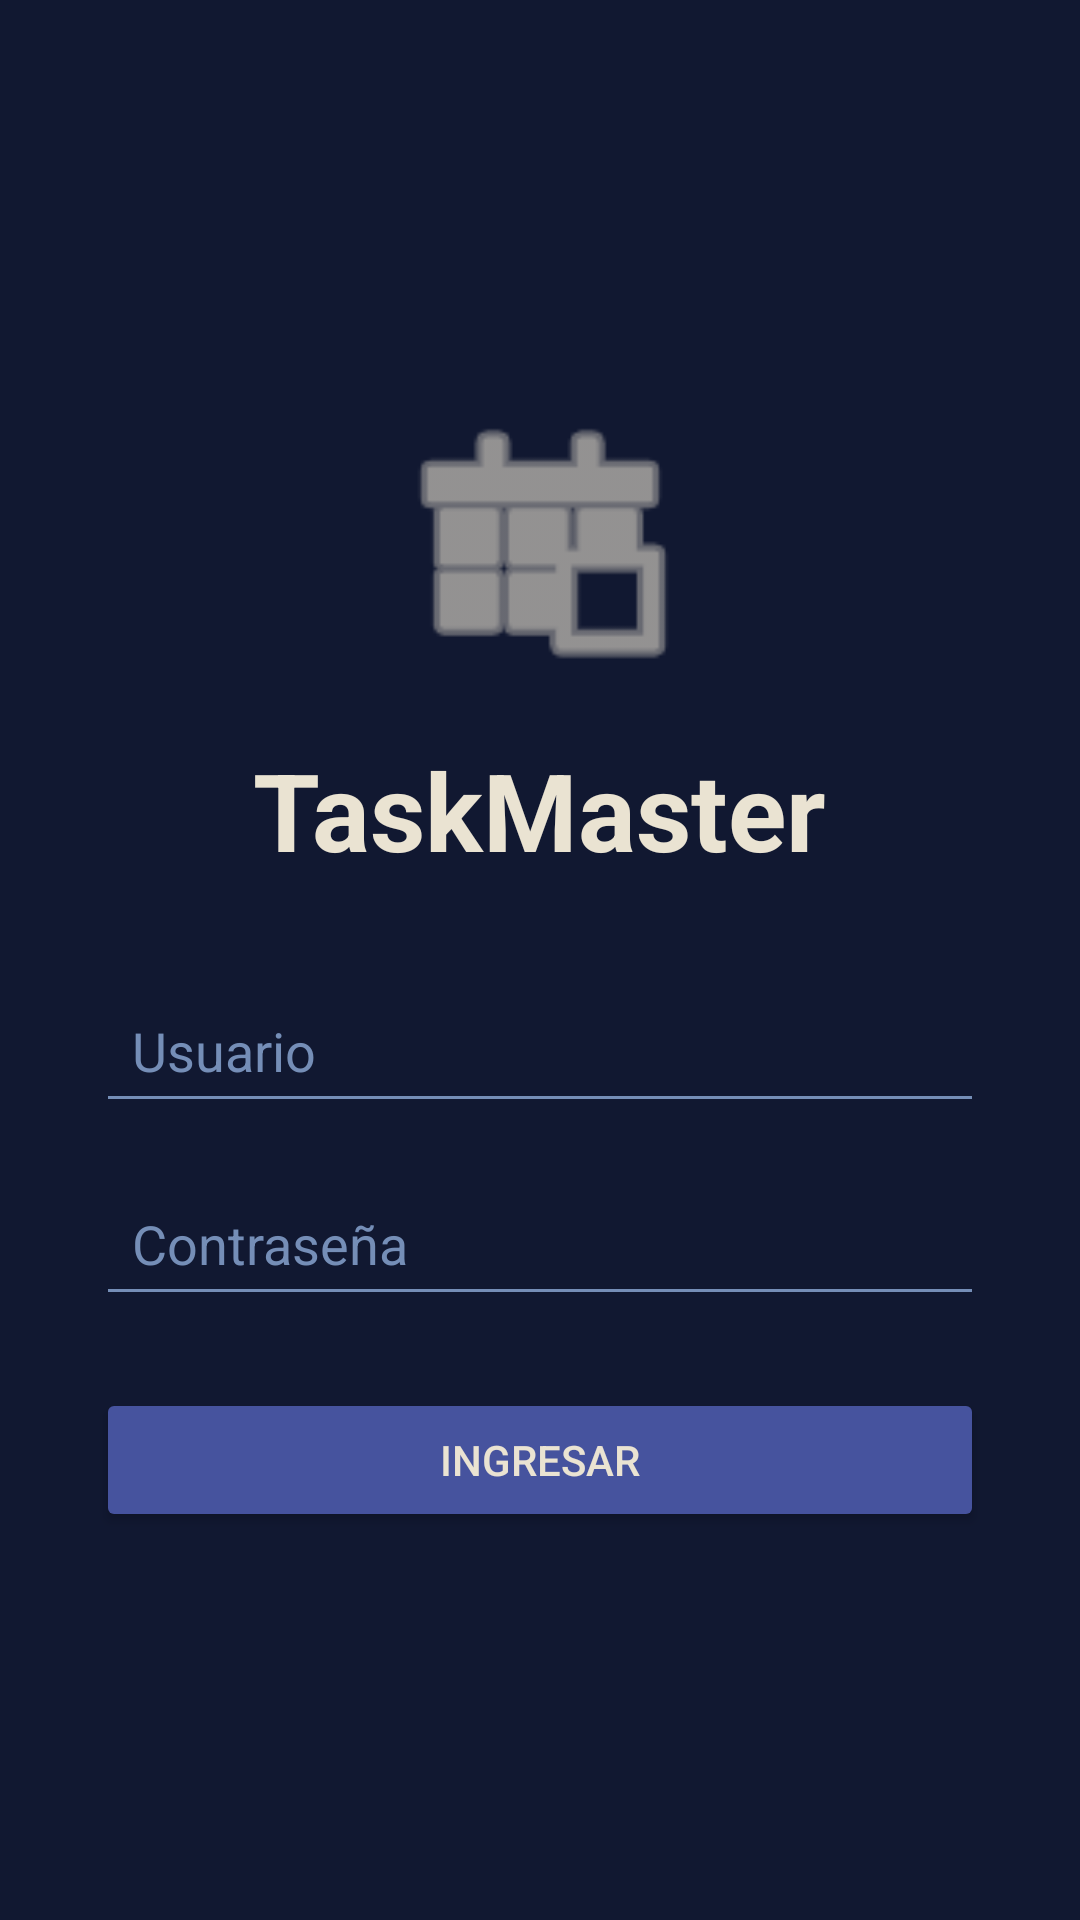

Locate icon controls on the screen. Image size 1080px x 1920px, boxes as (x1, y1, x2, y2).
today: (420, 429, 666, 658)
